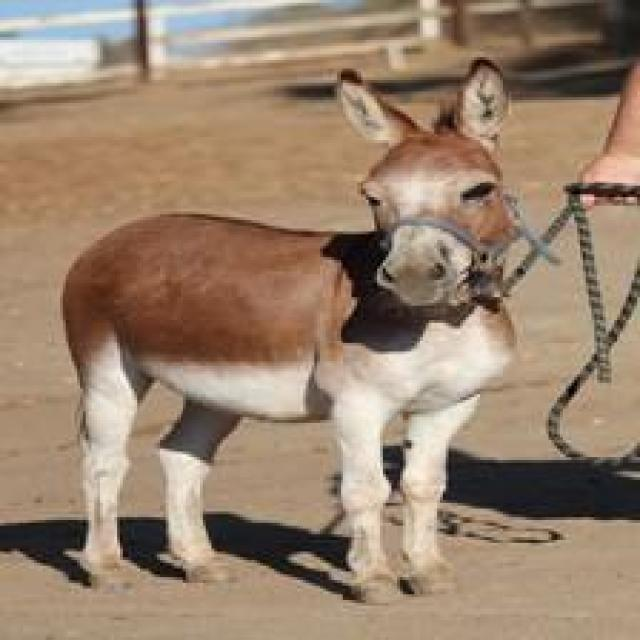Donkey: (57, 54, 520, 606)
